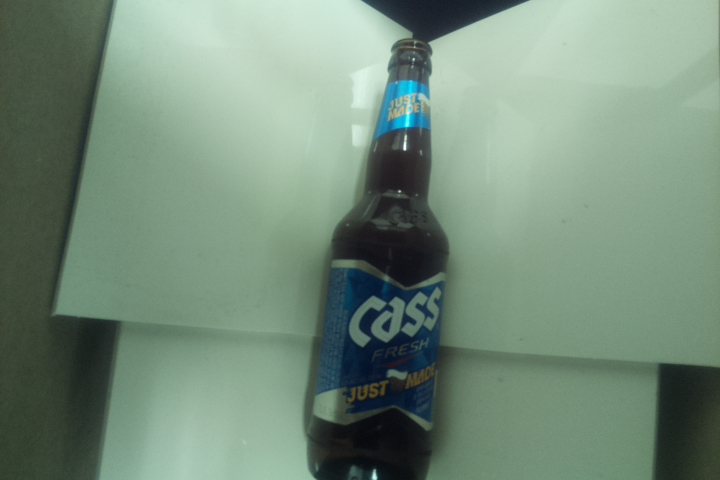makju: (304, 37, 451, 480)
